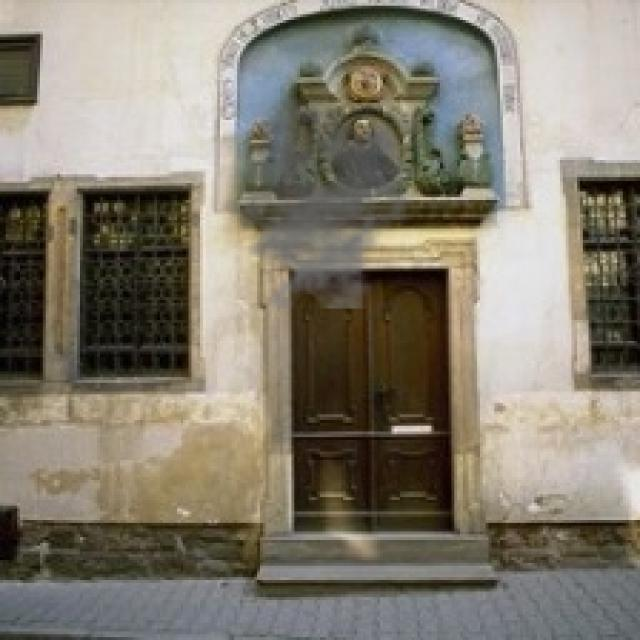Smoke: (211, 94, 420, 309)
